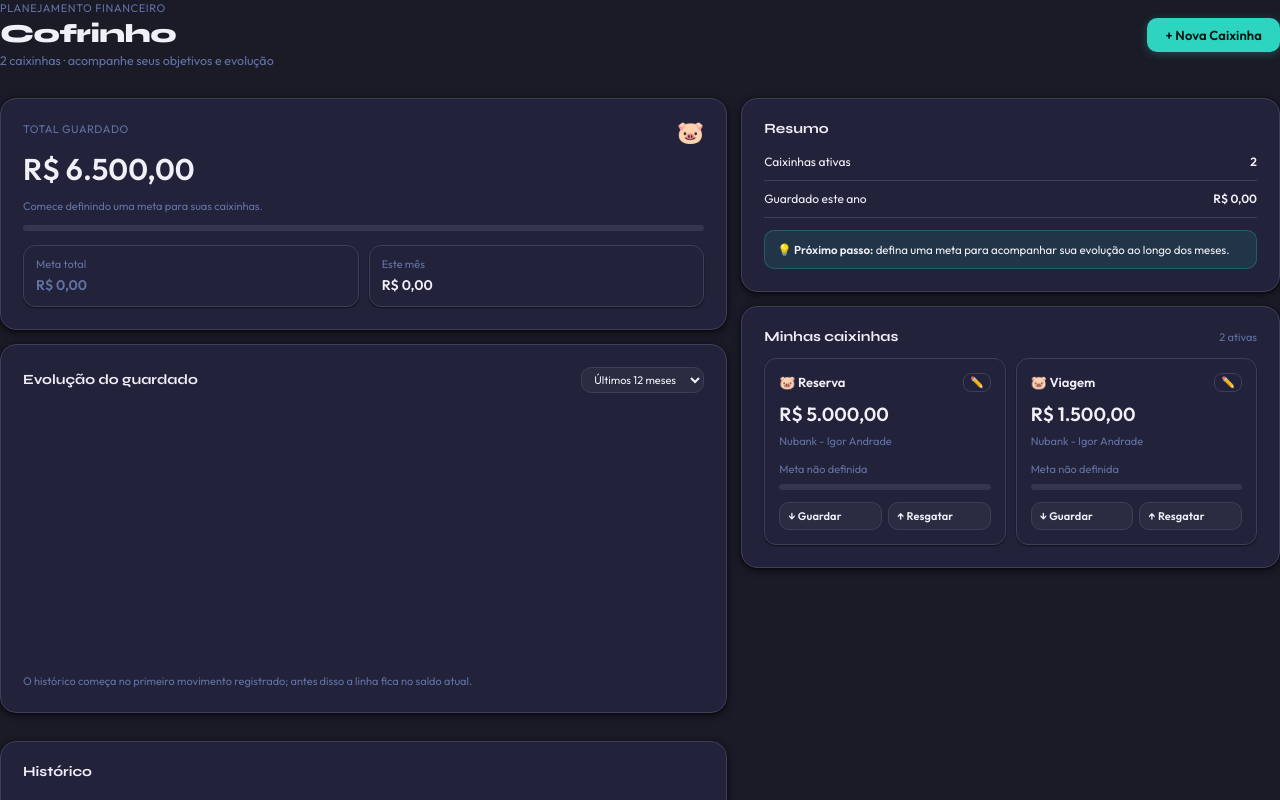
SavingsView › opens the move form asking to save into the chosen box
The image size is (1280, 800).
Step 1. Click the button "↓ Guardar" below "R$ 5.000,00" → (831, 516), box [779,502,882,530]
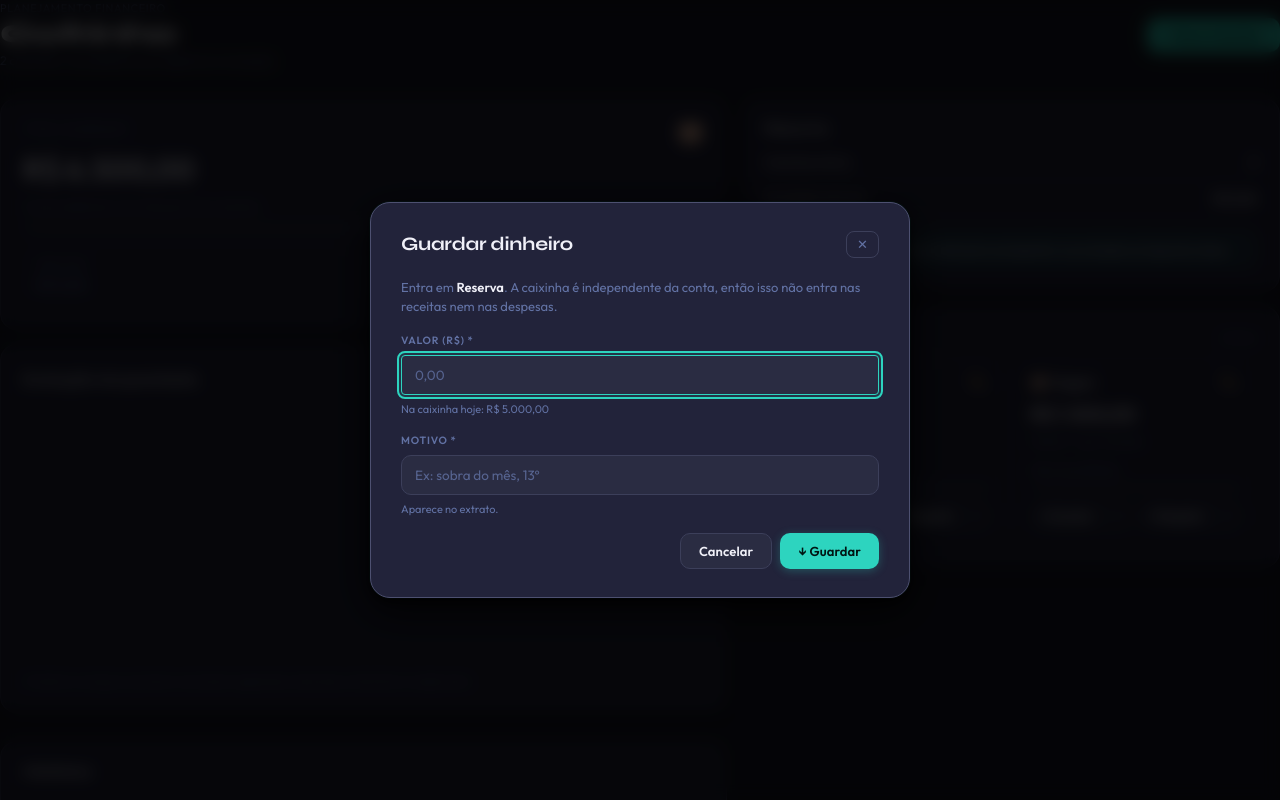
Expected: the heading "Guardar dinheiro" is shown, [401,233,573,256]
